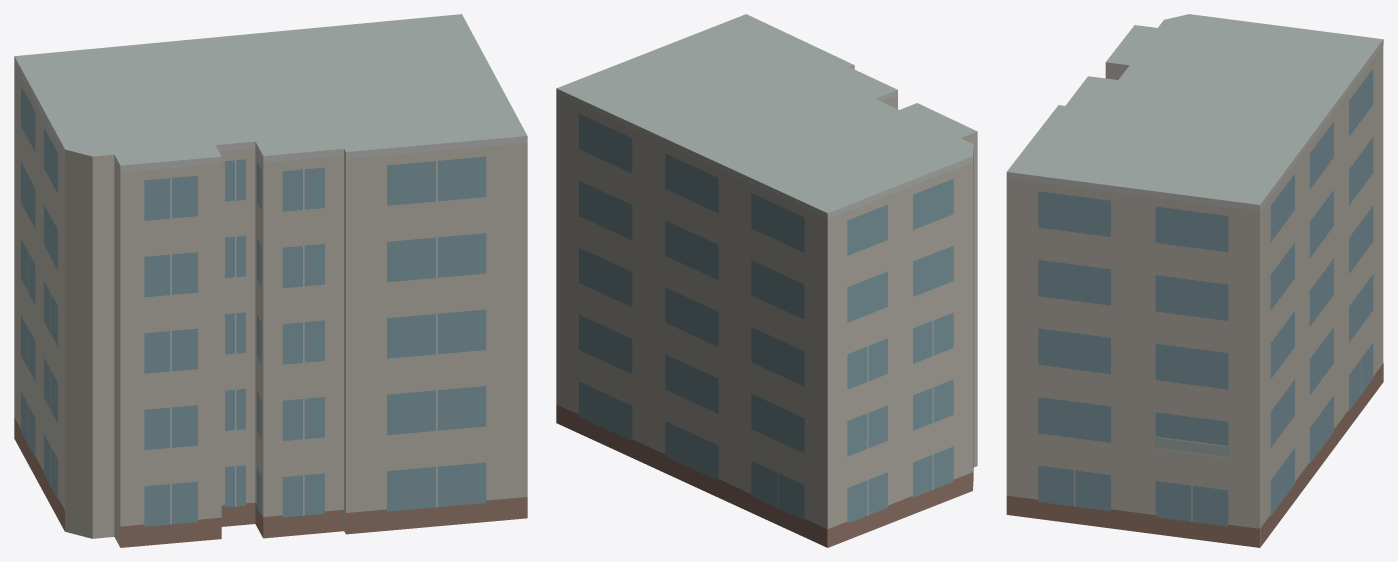
Rendered from survey-upis-32872878.glb.
3 views of the same model, side by side, from view 1: azimuth 30°, elevation 25°; view 2: azimuth 150°, elevation 25°; view 3: azimuth 270°, elevation 25° (orthographic). The views are drawn at different scales.
Visible parts, largest first — view 1: survey-upis-32872878.tmp; view 2: survey-upis-32872878.tmp; view 3: survey-upis-32872878.tmp.
Part boxes in pixels (bbox=[...]): survey-upis-32872878.tmp: bbox=[14, 14, 527, 547]; survey-upis-32872878.tmp: bbox=[556, 14, 977, 547]; survey-upis-32872878.tmp: bbox=[1006, 14, 1383, 547].
Bounding box in the file's own units: 16.2 × 13.55 × 13.51.
